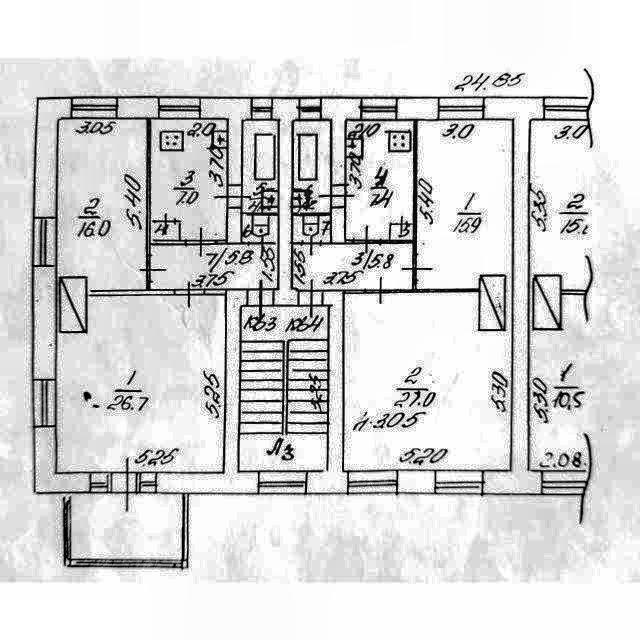room: (343, 290, 513, 472), (56, 295, 225, 472), (417, 120, 512, 289), (57, 119, 147, 290), (242, 306, 328, 472), (150, 118, 225, 239), (347, 121, 413, 240), (70, 494, 182, 559), (293, 242, 413, 288), (151, 244, 277, 287), (242, 120, 278, 213), (293, 120, 329, 213), (242, 214, 278, 242), (293, 216, 329, 242)
